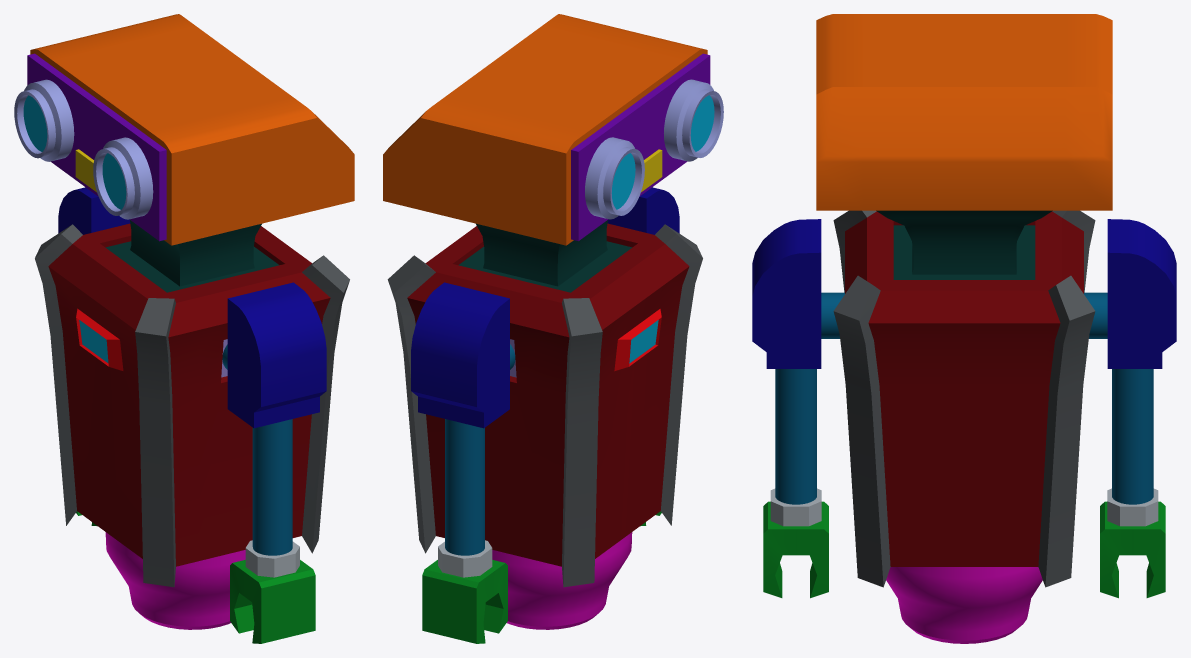
File: roboBuddyFinalEDIT.fbx
3 renders of one model, left to right at view 1: azimuth 30°, elevation 25°; view 2: azimuth 150°, elevation 25°; view 3: azimuth 270°, elevation 25°, orthographic. The views are drawn at different scales.
Visible parts, largest first — view 1: roboBuddy; view 2: roboBuddy; view 3: roboBuddy.
Part boxes in pixels (x1=…): roboBuddy: x1=14, y1=14, x2=354, y2=643; roboBuddy: x1=383, y1=14, x2=723, y2=643; roboBuddy: x1=752, y1=14, x2=1176, y2=643.
Size of the model in its own units: 169 by 376 by 259.
